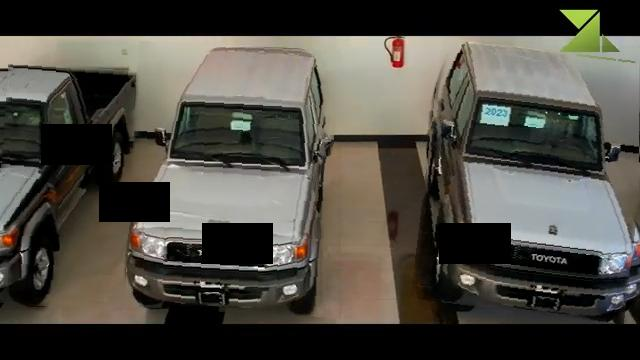MIL_HMMWV: (417, 43, 640, 318), (129, 44, 335, 314), (0, 64, 135, 309)
